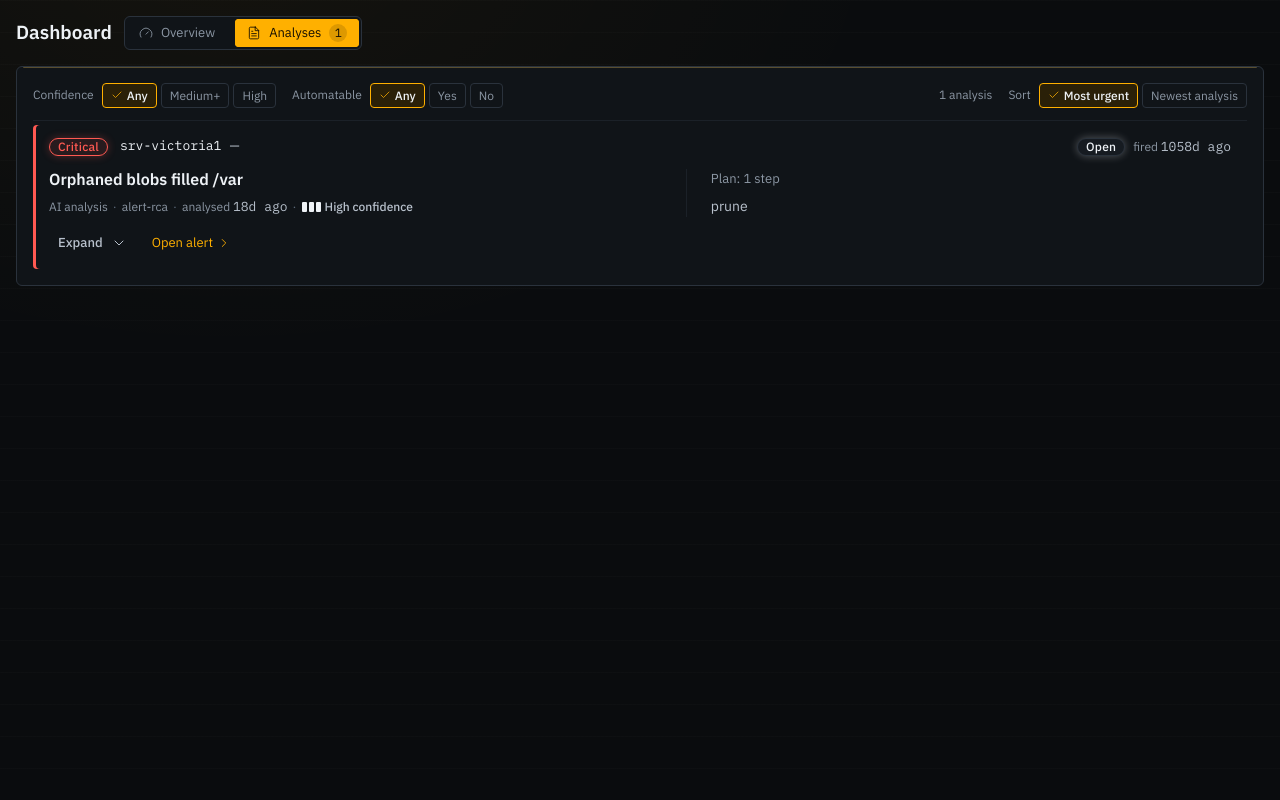
it: DashboardPage › the Analyses view › keeps Back on the dashboard when a deep-linked view is switched away
Expected: the text "Orphaned blobs filled /var" is shown, left=49, top=169, right=243, bottom=189
Click the button "Overview". click: x=177, y=33
box: left=127, top=19, right=227, bottom=46
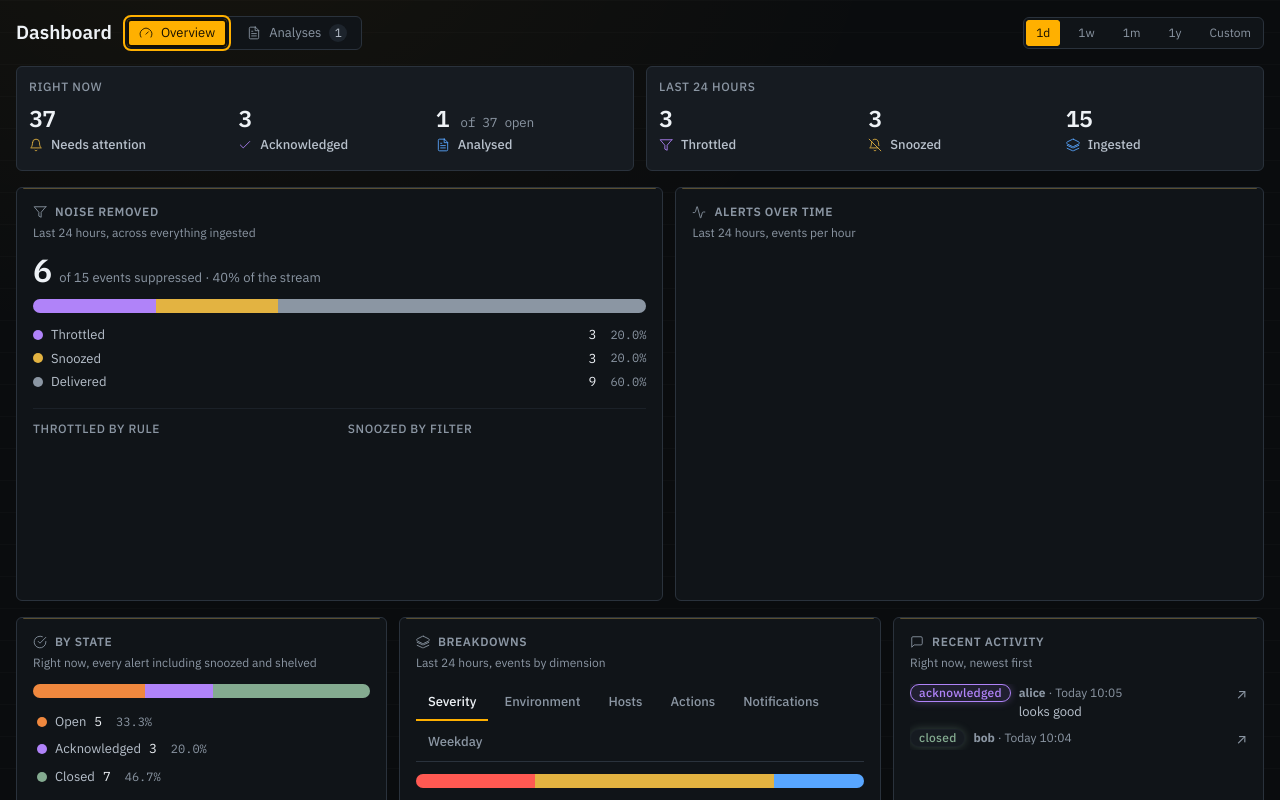
Result: the heading "Noise removed" is shown at left=33, top=204, right=159, bottom=219
